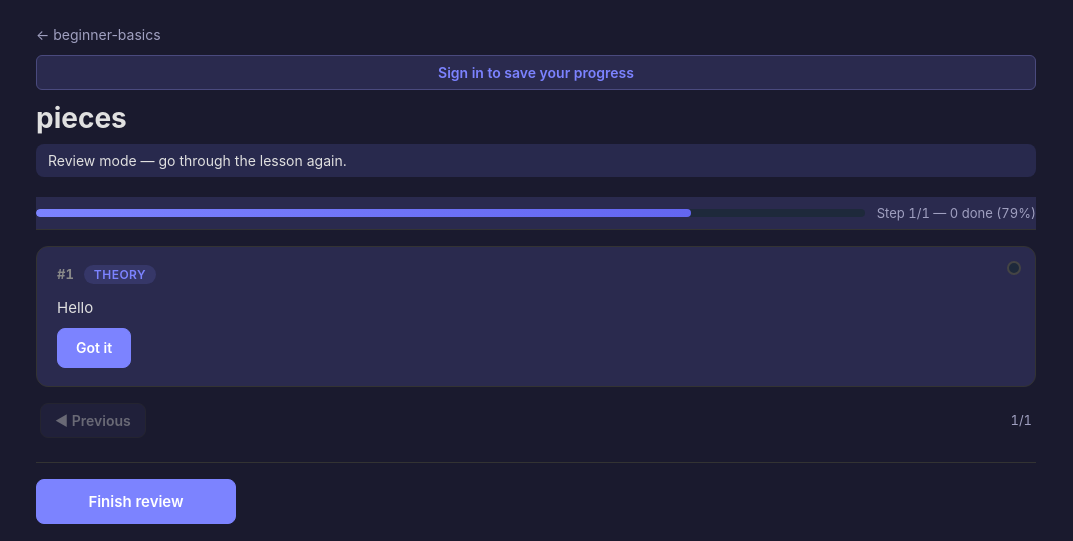
Scenario: LessonPage review result screen › <80% → «Интервал сброшен, повтор завтра», quality=0
Click the button with test id "lesson-complete-btn" at coordinates (136, 501), box [36,479,236,524]
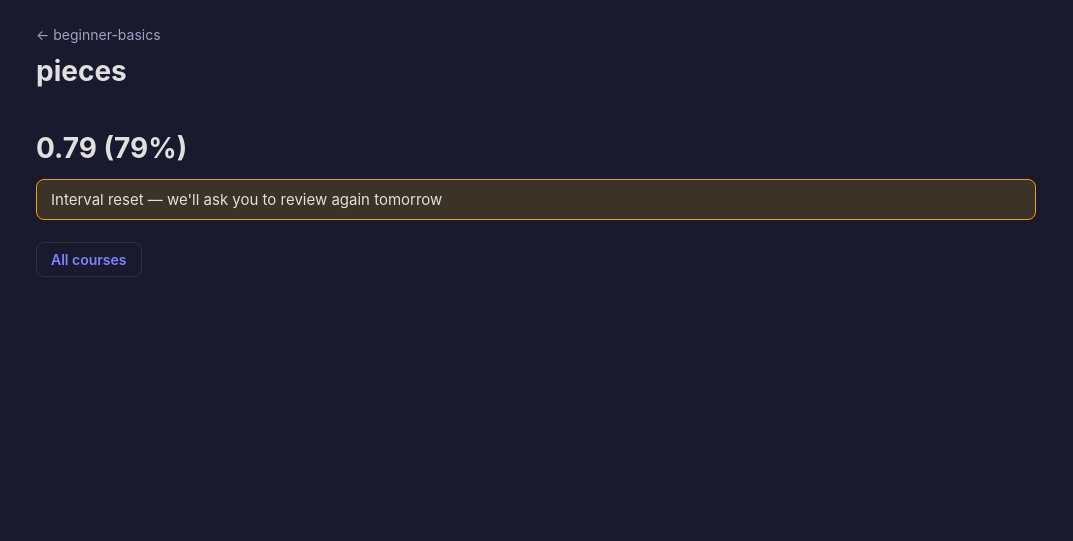
Now the text "Interval reset — we'll ask you to review again tomorrow" is shown, box [36,179,1036,220]
